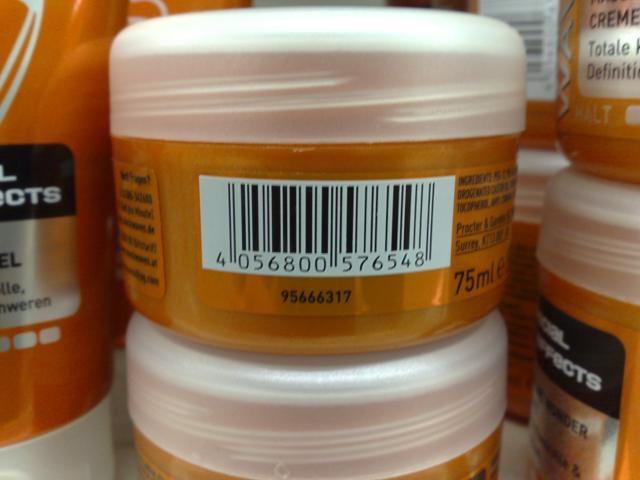Barcode: (200, 177, 454, 275)
